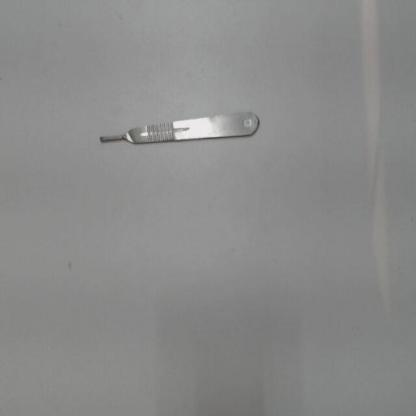No.3 BP Handle: (87, 107, 261, 155)
